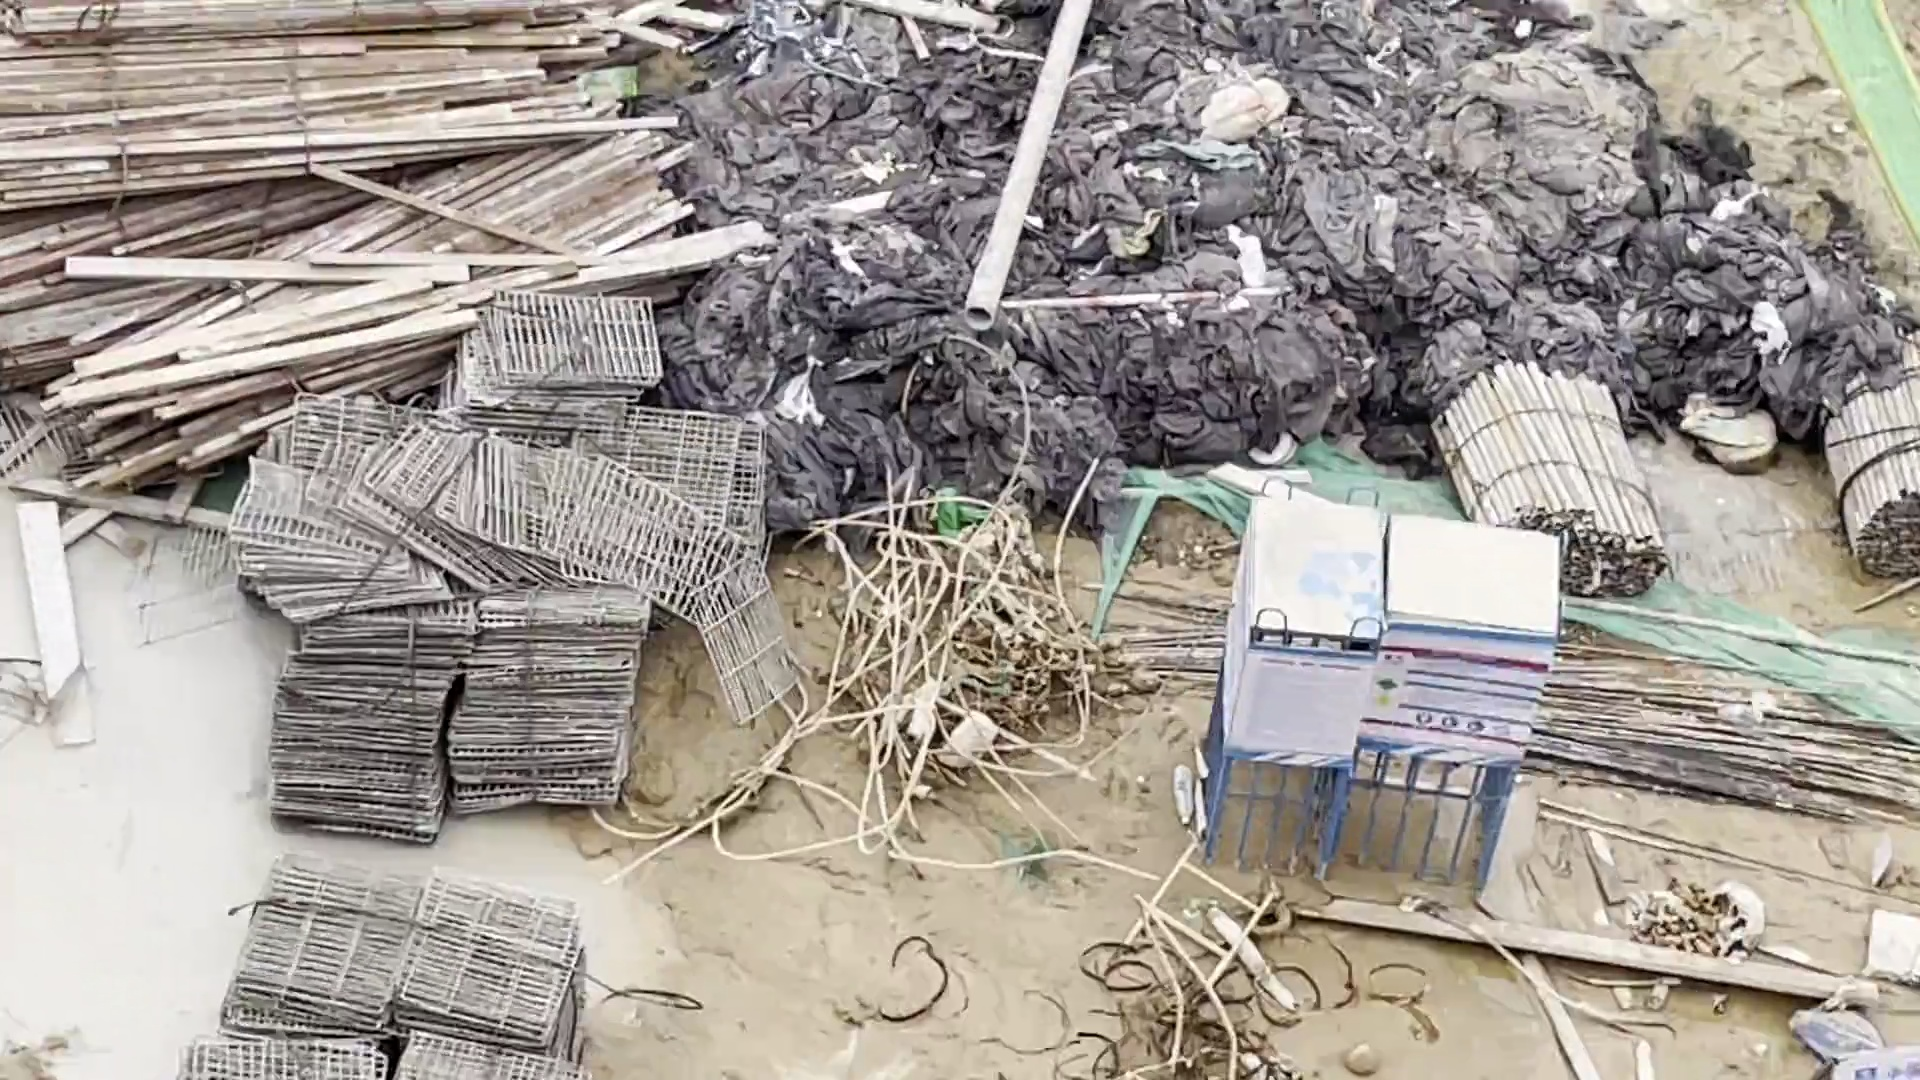slogan: (1371, 630, 1556, 782), (1249, 646, 1390, 770)
wood: (1, 4, 634, 423)
